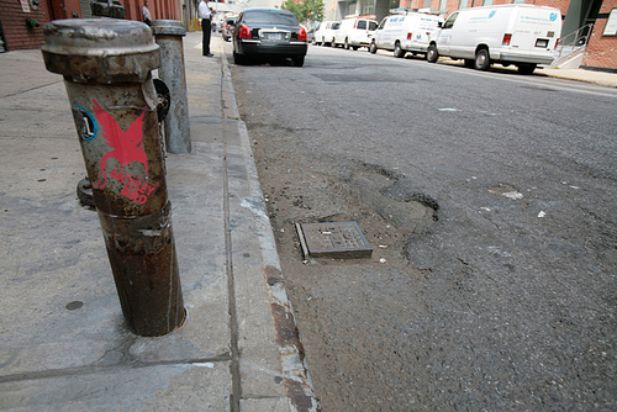pothole: (355, 154, 446, 281)
